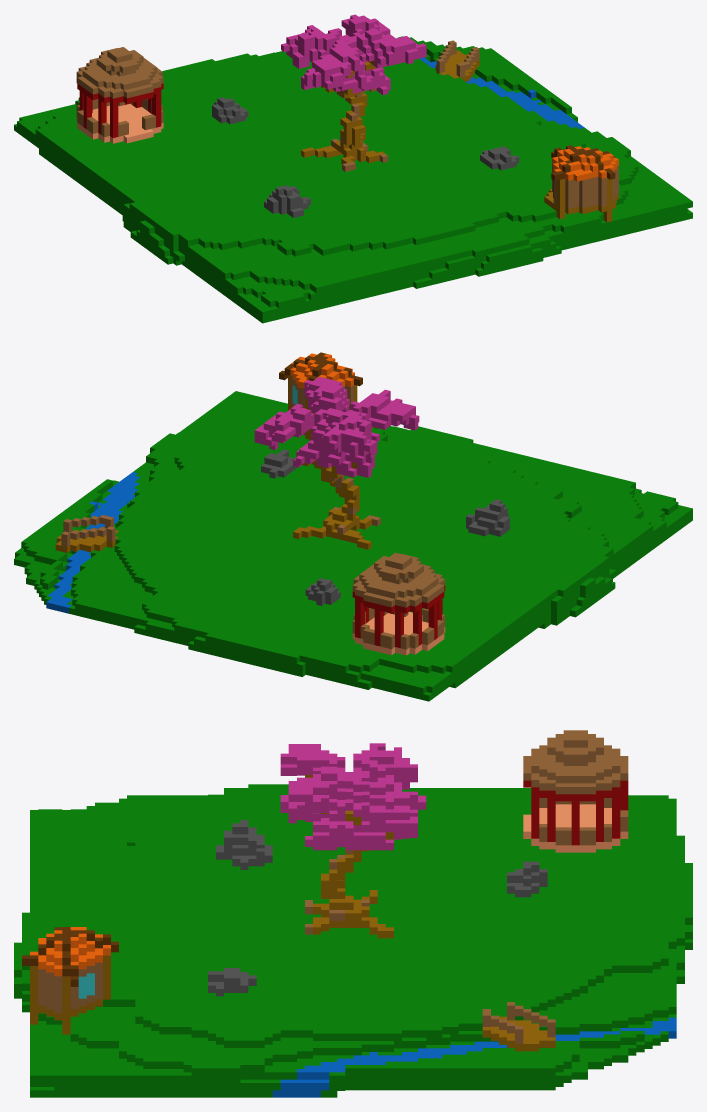
Rendered from sakura.glb.
3 views of the same model, one above another, from view 1: azimuth 30°, elevation 25°; view 2: azimuth 150°, elevation 25°; view 3: azimuth 270°, elevation 25° (orthographic). The views are drawn at different scales.
Parts seen in each view (by area): view 1: Object_2; view 2: Object_2; view 3: Object_2.
Part boxes in pixels (left/top/right/bottom): Object_2: left=14, top=14, right=692, bottom=323; Object_2: left=14, top=352, right=692, bottom=701; Object_2: left=14, top=730, right=692, bottom=1097.
Bounding box in the file's own units: 16.33 × 5.38 × 16.73.
1 material, 1 textured.
